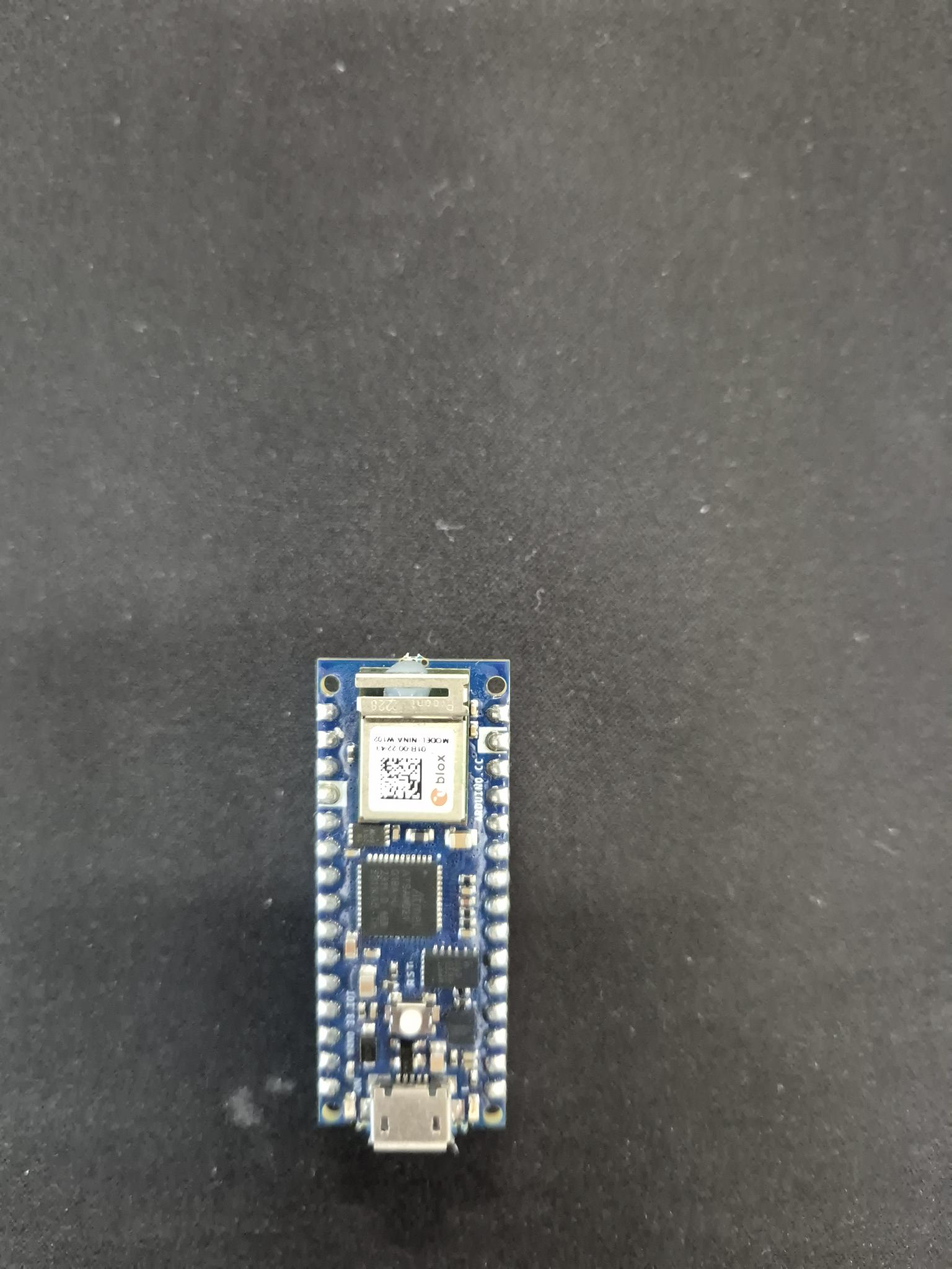arduino-nano-iot-33: (314, 652, 510, 1153)
